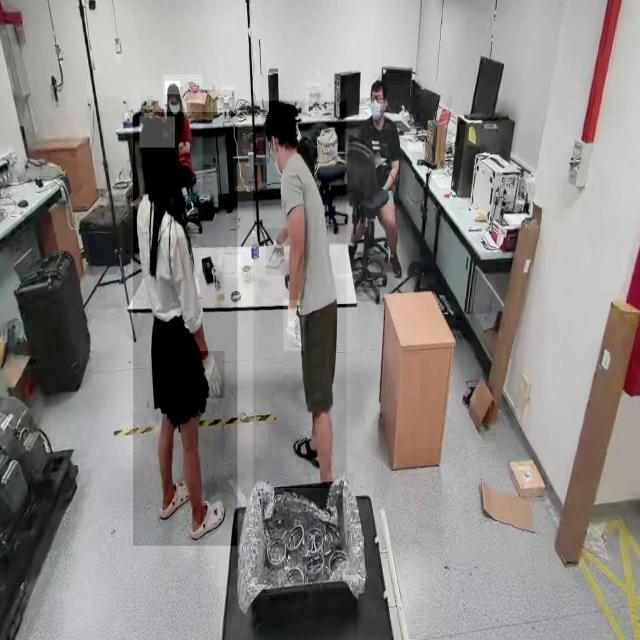face_mask: (370, 90, 386, 124), (167, 87, 183, 120)
hand_glove: (198, 351, 225, 399), (283, 300, 305, 352), (266, 228, 289, 276)
hand_noglove: (178, 140, 186, 150)
head_nohelmet: (140, 116, 176, 148), (263, 102, 297, 125), (165, 81, 181, 95), (369, 79, 385, 92)
person: (133, 112, 238, 547), (253, 100, 347, 489), (364, 84, 414, 278), (163, 75, 203, 236)
